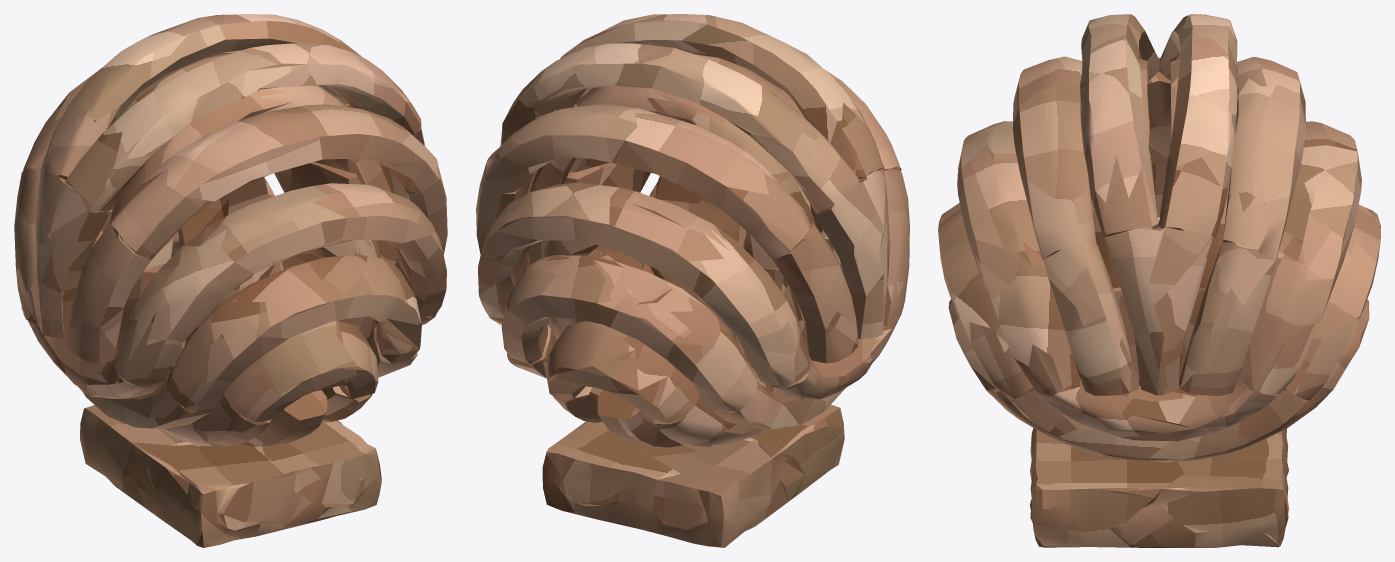
File: art2.glb
3 renders of one model, left to right at view 1: azimuth 30°, elevation 25°; view 2: azimuth 150°, elevation 25°; view 3: azimuth 270°, elevation 25°, orthographic. The views are drawn at different scales.
Size of the model in its own units: 1.7 by 1.9 by 1.63.
Materials: 1 (1 with a texture image).
